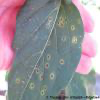Bell_pepper leaf spot: (9, 2, 84, 96)
